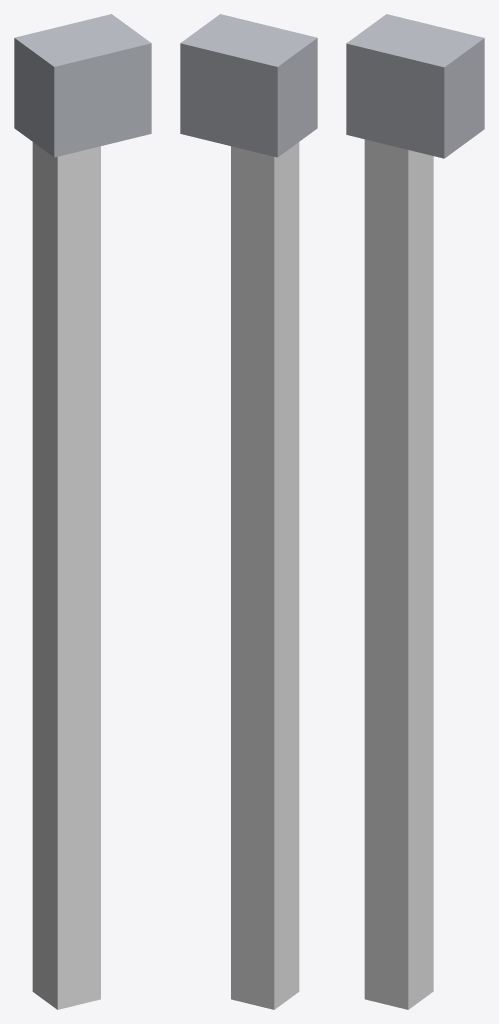
The model's file is turbine_tower.glb.
3 renders of one model, left to right at view 1: azimuth 30°, elevation 25°; view 2: azimuth 150°, elevation 25°; view 3: azimuth 330°, elevation 25°, orthographic.
Parts seen in each view (by area): view 1: turbine_tower; view 2: turbine_tower; view 3: turbine_tower.
Part boxes in pixels (<box>): turbine_tower: <box>14,14,151,1009</box>; turbine_tower: <box>180,14,317,1009</box>; turbine_tower: <box>346,14,484,1009</box>.
Bounding box in the file's own units: 0.225 × 2.1 × 0.16.
Materials: 1 (1 with a texture image).
